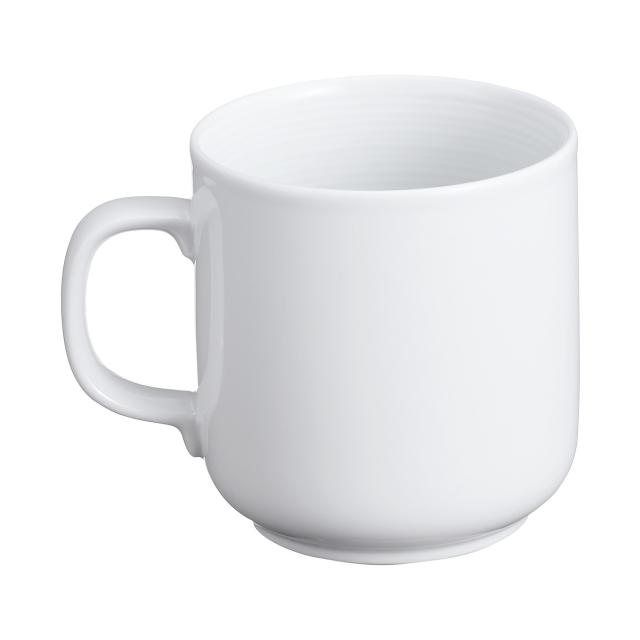Cup: (57, 73, 586, 570)
